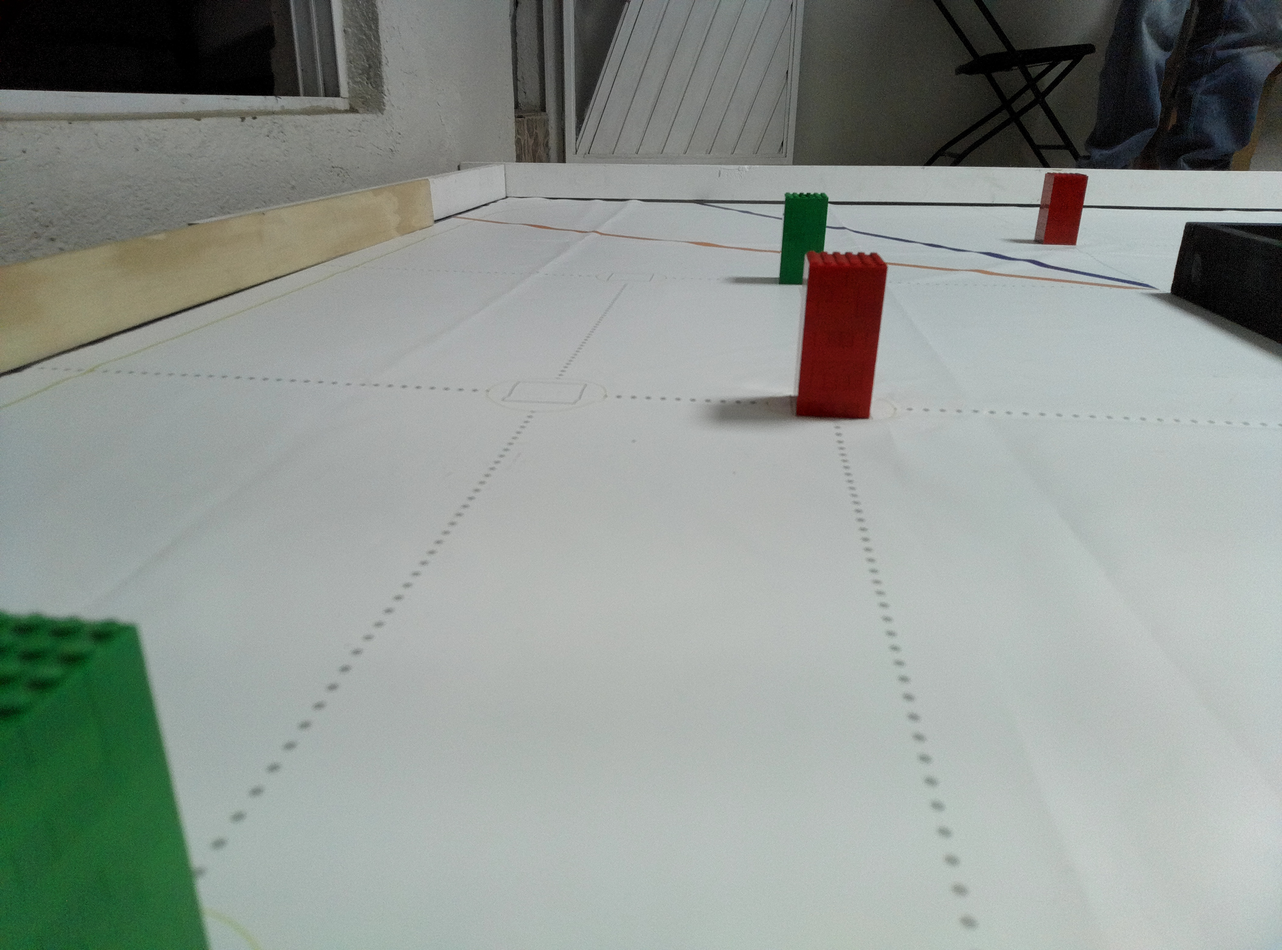greenbox: (0, 601, 216, 950), (778, 191, 830, 287)
redbox: (789, 250, 890, 420), (1032, 172, 1089, 247)
